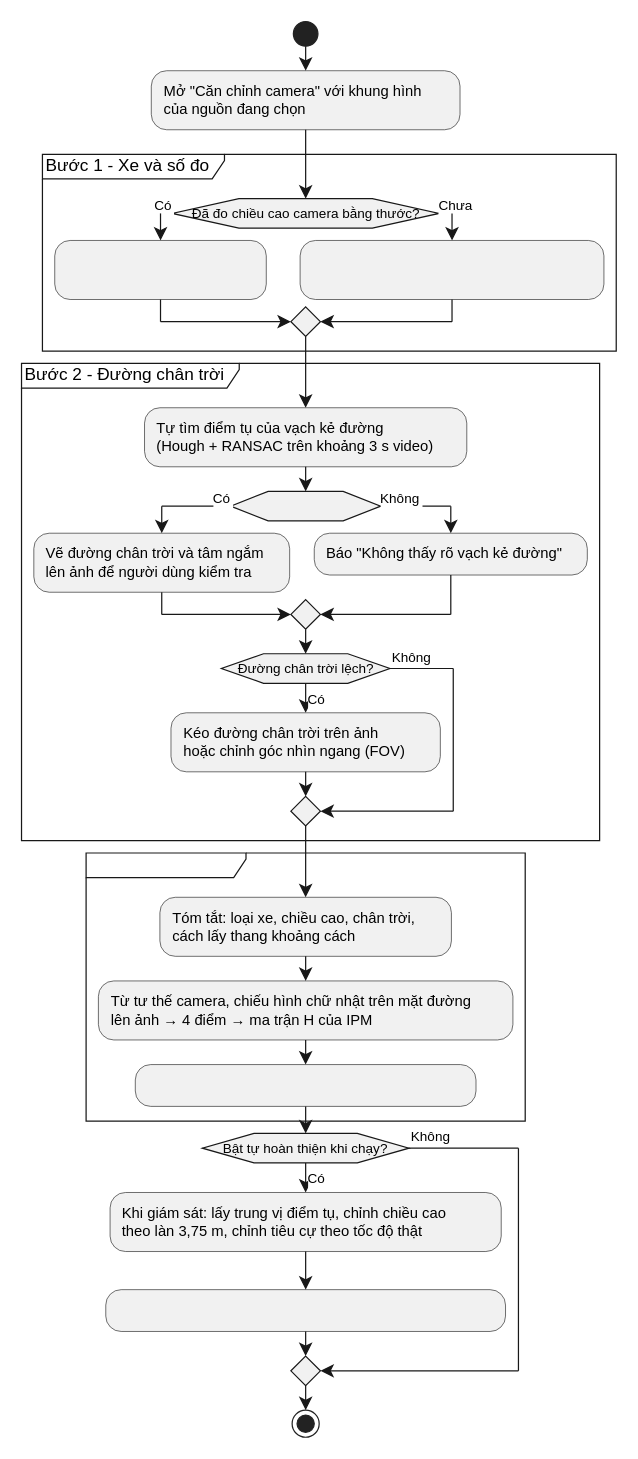
This 638x1459 diagram has some shape labels left out. Here are the shapes that lost their labels. From the top down, the box of each, then its label:
(54, 240, 266, 299): Nhập chiều cao camera và khoảng cách tới đầu xe
(299, 240, 604, 299): Chọn loại xe: xe con, SUV / bán tải, xe khách, xe tải → điền số đo điển hình
(229, 490, 381, 521): Tìm thấy điểm tụ?
(85, 852, 525, 1121): Bước 3 - Hoàn tất
(134, 1064, 476, 1106): Lưu căn chỉnh của nguồn (K, H, R) vào CSDL
(105, 1289, 505, 1331): Báo kết quả tự kiểm tra, theo dõi camera bị xê dịch
